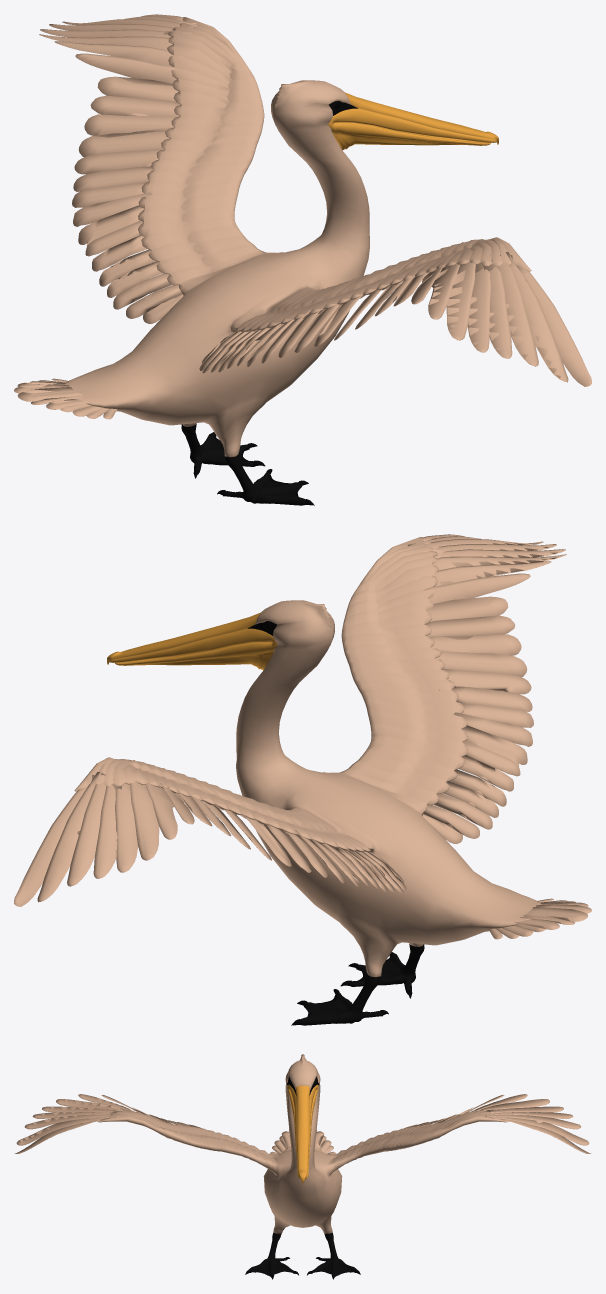
The model's file is pelican.obj.
The picture shows the model from 3 angles, top to bottom: view 1: azimuth 30°, elevation 25°; view 2: azimuth 150°, elevation 25°; view 3: azimuth 270°, elevation 25°; orthographic projection. The views are drawn at different scales.
Visible parts, largest first — view 1: bod, forwing, bill, rf23, rf22, rleg, rf24, lf13, rf19, lf17, rf21, rf20 (+21 smaller); view 2: bod, forwing, bill, lf23, lleg, lf24, lf22, lf21, rf13, lf19, rf17, lf20 (+21 smaller); view 3: bod, forwing, bill, lleg, rleg, lf23, rf23, rf22, lf22, rf19, lf19, rf20 (+5 smaller).
Part boxes in pixels (x1=…): bod: x1=64, y1=80, x2=369, y2=457; forwing: x1=138, y1=17, x2=531, y2=331; bill: x1=328, y1=92, x2=498, y2=150; rf23: x1=500, y1=252, x2=568, y2=382; rf22: x1=483, y1=256, x2=538, y2=366; rleg: x1=223, y1=453, x2=305, y2=505; rf24: x1=511, y1=255, x2=591, y2=386; lf13: x1=78, y1=131, x2=169, y2=157; rf19: x1=446, y1=261, x2=475, y2=340; lf17: x1=75, y1=53, x2=182, y2=83; rf21: x1=475, y1=253, x2=512, y2=358; rf20: x1=467, y1=268, x2=490, y2=352; bod: x1=236, y1=600, x2=541, y2=977; forwing: x1=74, y1=537, x2=467, y2=851; bill: x1=107, y1=612, x2=277, y2=670; lf23: x1=37, y1=772, x2=105, y2=902; lleg: x1=300, y1=973, x2=382, y2=1025; lf24: x1=14, y1=775, x2=94, y2=906; lf22: x1=67, y1=775, x2=122, y2=886; lf21: x1=93, y1=773, x2=130, y2=878; rf13: x1=436, y1=651, x2=527, y2=677; lf19: x1=129, y1=782, x2=159, y2=860; rf17: x1=423, y1=573, x2=530, y2=603; lf20: x1=115, y1=784, x2=141, y2=872; bod: x1=263, y1=1054, x2=342, y2=1233; forwing: x1=98, y1=1110, x2=507, y2=1175; bill: x1=287, y1=1084, x2=318, y2=1183; lleg: x1=310, y1=1232, x2=357, y2=1277; rleg: x1=248, y1=1232, x2=295, y2=1277; lf23: x1=485, y1=1115, x2=589, y2=1145; rf23: x1=16, y1=1116, x2=120, y2=1145; rf22: x1=24, y1=1112, x2=114, y2=1129; lf22: x1=487, y1=1112, x2=581, y2=1129; rf19: x1=56, y1=1099, x2=127, y2=1110; lf19: x1=478, y1=1099, x2=549, y2=1110; rf20: x1=42, y1=1106, x2=119, y2=1112.
Size of the model in its own units: 14.98 by 11.46 by 26.49.
